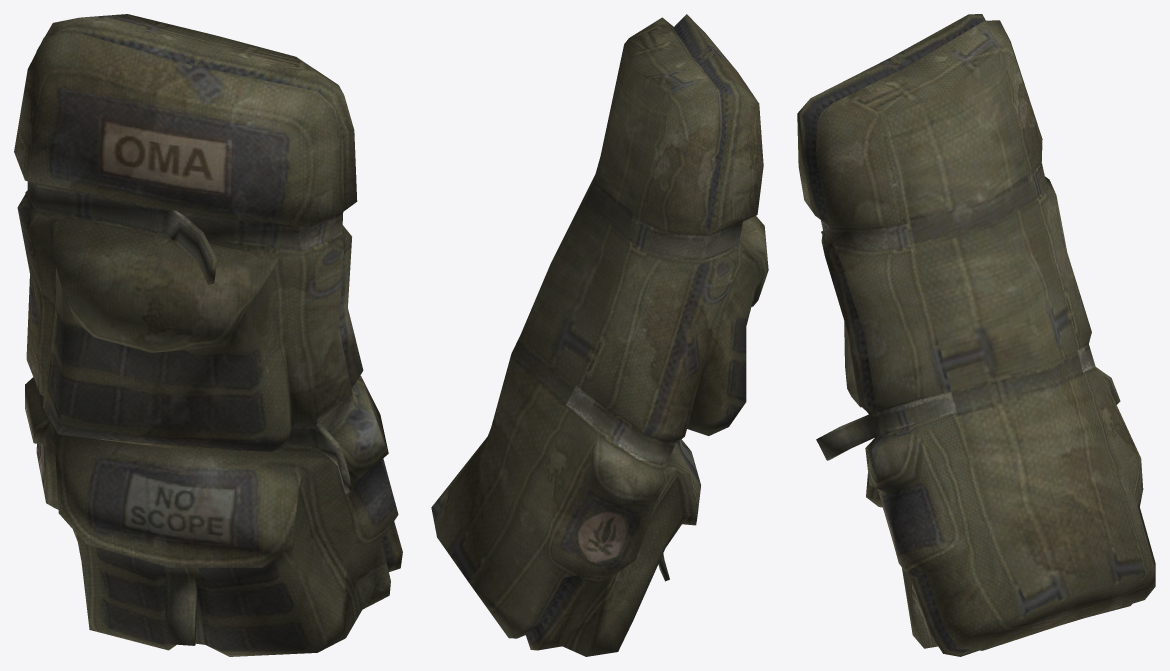
File: weapon_oma_pack_viewmodel_LOD0.obj
3 renders of one model, left to right at view 1: azimuth 30°, elevation 25°; view 2: azimuth 150°, elevation 25°; view 3: azimuth 270°, elevation 25°, orthographic. The views are drawn at different scales.
Parts seen in each view (by area): view 1: mtl_oma_pack; view 2: mtl_oma_pack; view 3: mtl_oma_pack.
Boxes of the visible parts, left/top/right/bottom form: mtl_oma_pack: left=14, top=14, right=402, bottom=656; mtl_oma_pack: left=431, top=14, right=768, bottom=656; mtl_oma_pack: left=797, top=14, right=1155, bottom=656.
Bounding box in the file's own units: 37.93 × 66.19 × 38.95.
Materials: 1 (1 with a texture image).
